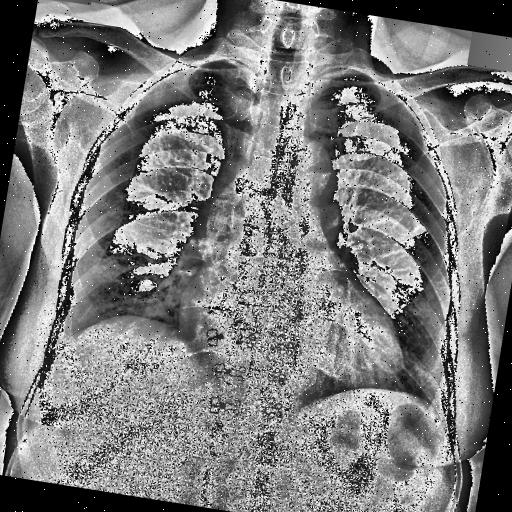0- Aortic enlargement: (263, 130, 355, 230), (266, 134, 346, 217)
3- Cardiomegaly: (167, 278, 415, 398), (168, 269, 416, 387), (165, 284, 408, 390)
7- Lung Opacity: (400, 308, 451, 402)
9- Other lesion: (400, 308, 451, 402)
